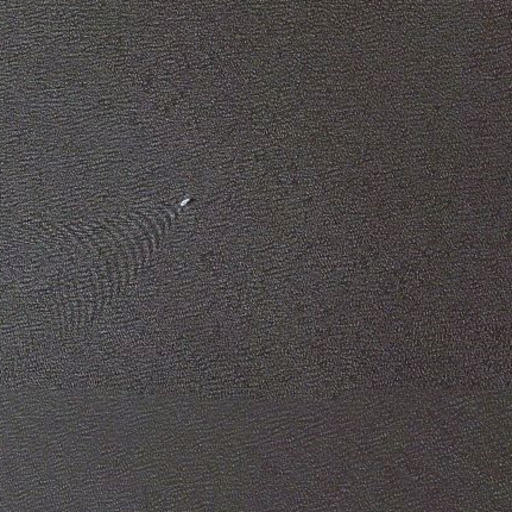ship: (177, 195, 193, 208)
